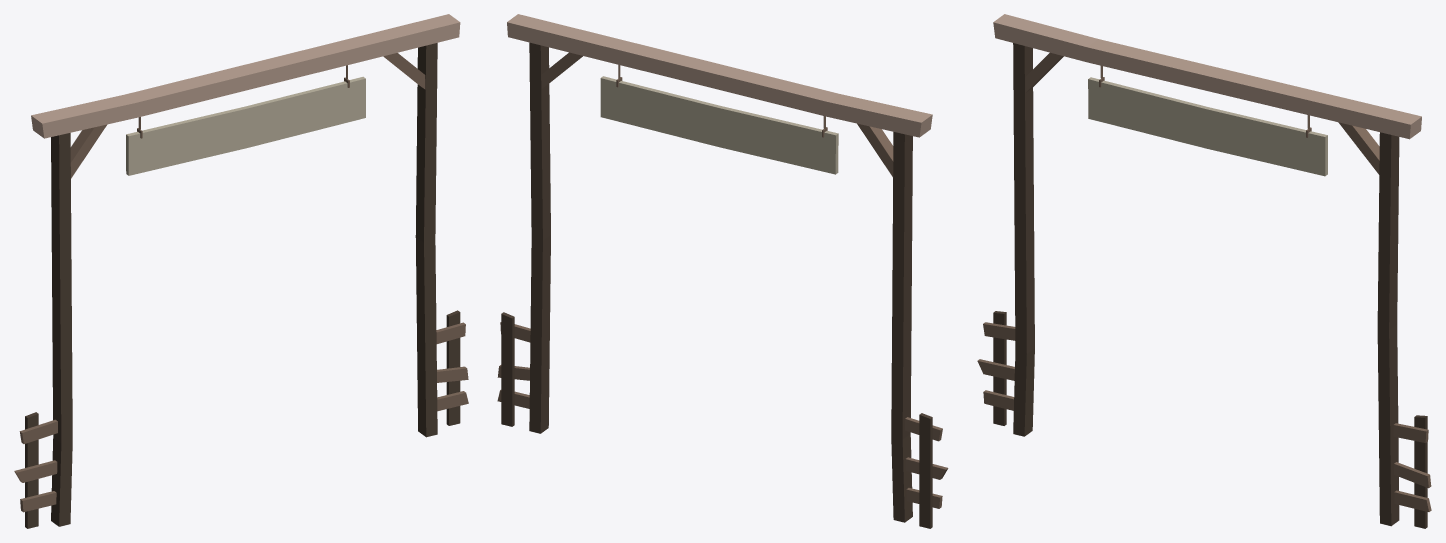
Rendered from Street Entry.glb.
The picture shows the model from 3 angles, left to right: view 1: azimuth 30°, elevation 25°; view 2: azimuth 150°, elevation 25°; view 3: azimuth 330°, elevation 25°; orthographic projection.
Parts seen in each view (by area): view 1: Street Entry; view 2: Street Entry; view 3: Street Entry.
Boxes of the visible parts, x1,y1,x2,y2 form: Street Entry: (14,14,468,528); Street Entry: (497,14,948,528); Street Entry: (977,14,1431,528).
Size of what is drawn, in the model's own units: 5.95 by 5.14 by 0.2585.
1 material, 1 textured.
